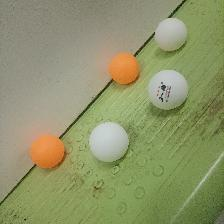WhiteBall: (88, 121, 129, 161), (148, 69, 187, 108), (155, 17, 186, 50)
YellowBall: (29, 134, 64, 168), (107, 51, 138, 84)
